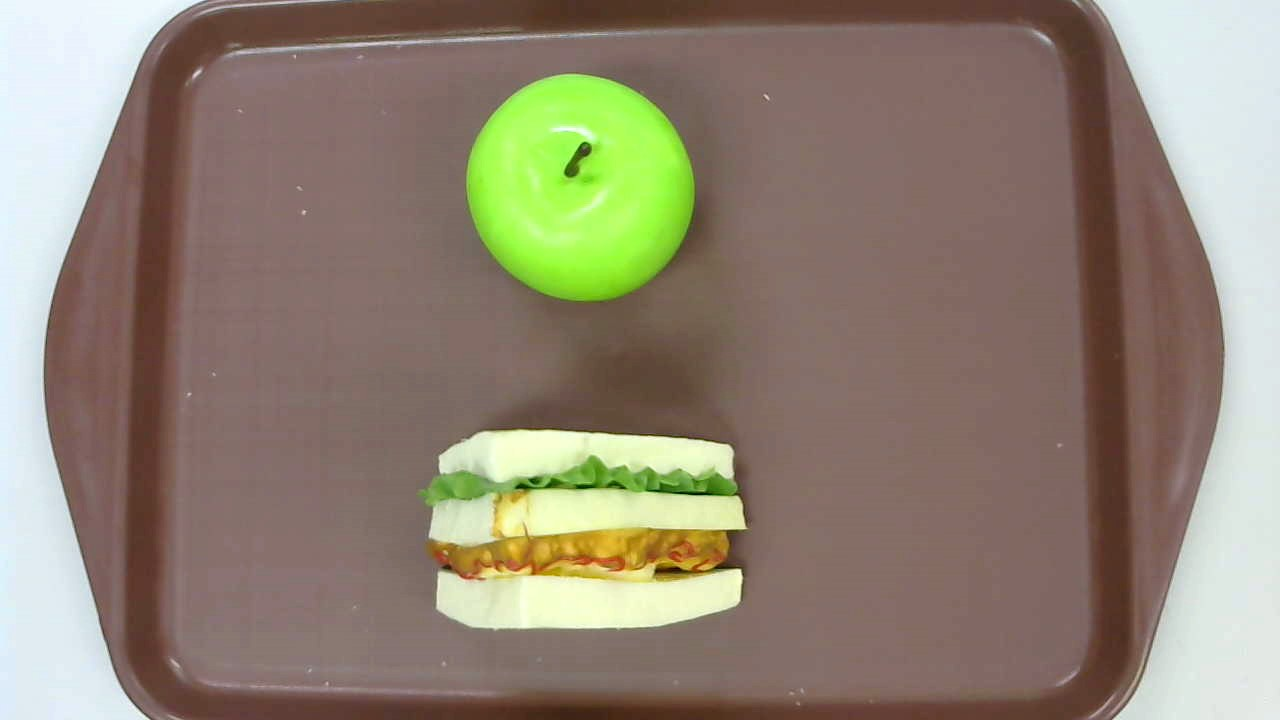green apple: (464, 74, 694, 302)
sandwich: (416, 429, 751, 633)
